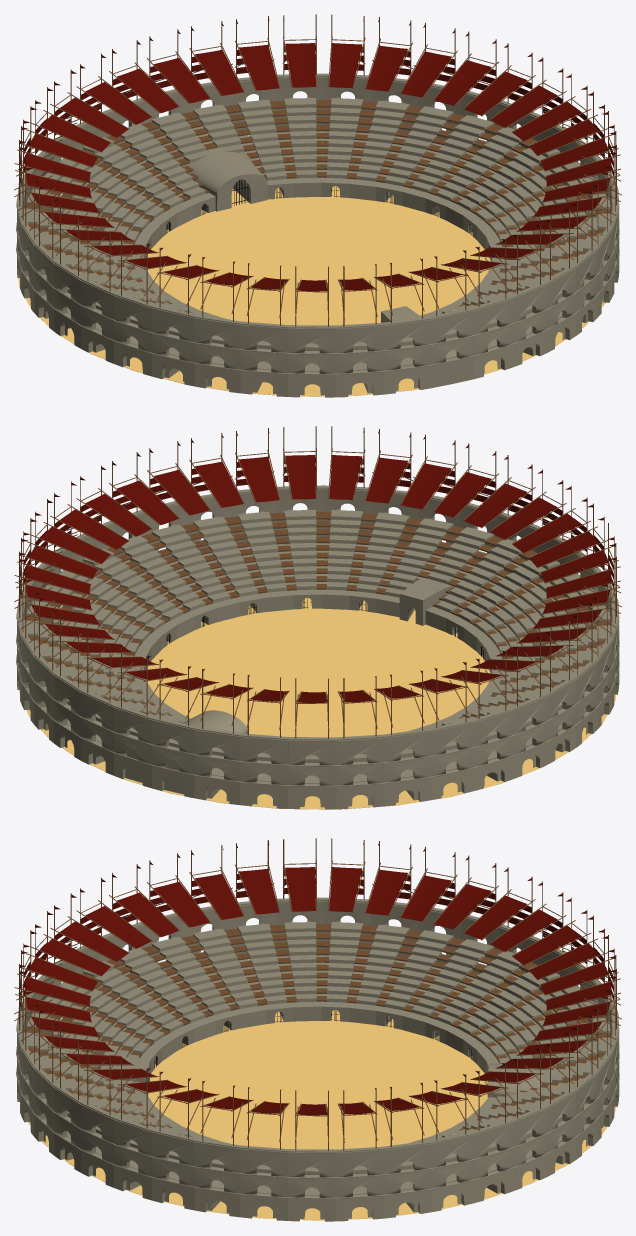
Rendered from ArenaBase.fbx.
The picture shows the model from 3 angles, top to bottom: view 1: azimuth 30°, elevation 25°; view 2: azimuth 150°, elevation 25°; view 3: azimuth 270°, elevation 25°; orthographic projection.
Parts seen in each view (by area): view 1: Arena, Ground, Flags, Poles, Beams, Gates; view 2: Arena, Ground, Flags, Poles, Beams; view 3: Arena, Ground, Flags, Poles, Beams.
Boxes of the visible parts, x1,y1,x2,y2 form: Arena: (16,73,619,397); Ground: (18,186,605,396); Flags: (19,14,616,291); Poles: (14,14,621,326); Beams: (26,100,611,314); Gates: (147,179,490,258); Arena: (16,485,619,809); Ground: (19,597,615,809); Flags: (19,426,616,703); Poles: (14,426,621,738); Beams: (26,511,611,764); Arena: (16,897,619,1221); Ground: (28,1010,615,1220); Flags: (19,838,616,1115); Poles: (14,838,621,1150); Beams: (26,924,611,1138).
Bounding box in the file's own units: 12160 × 2887 × 12160.
